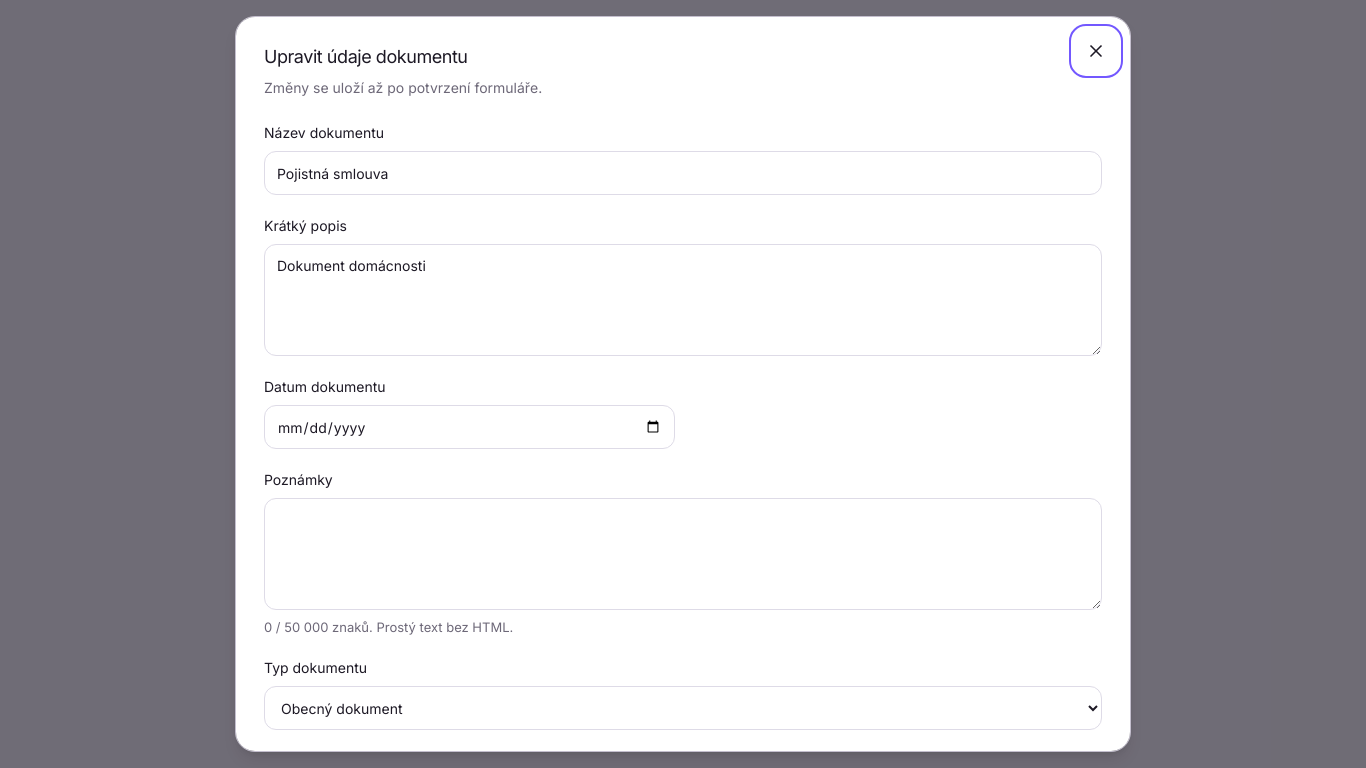
Test: documents frontend › asks before closing an edit dialog with unsaved changes
Replace the text in the field labelled "Název dokumentu" with "Změněný název": (683, 173) x1=264 y1=151 x2=1102 y2=195
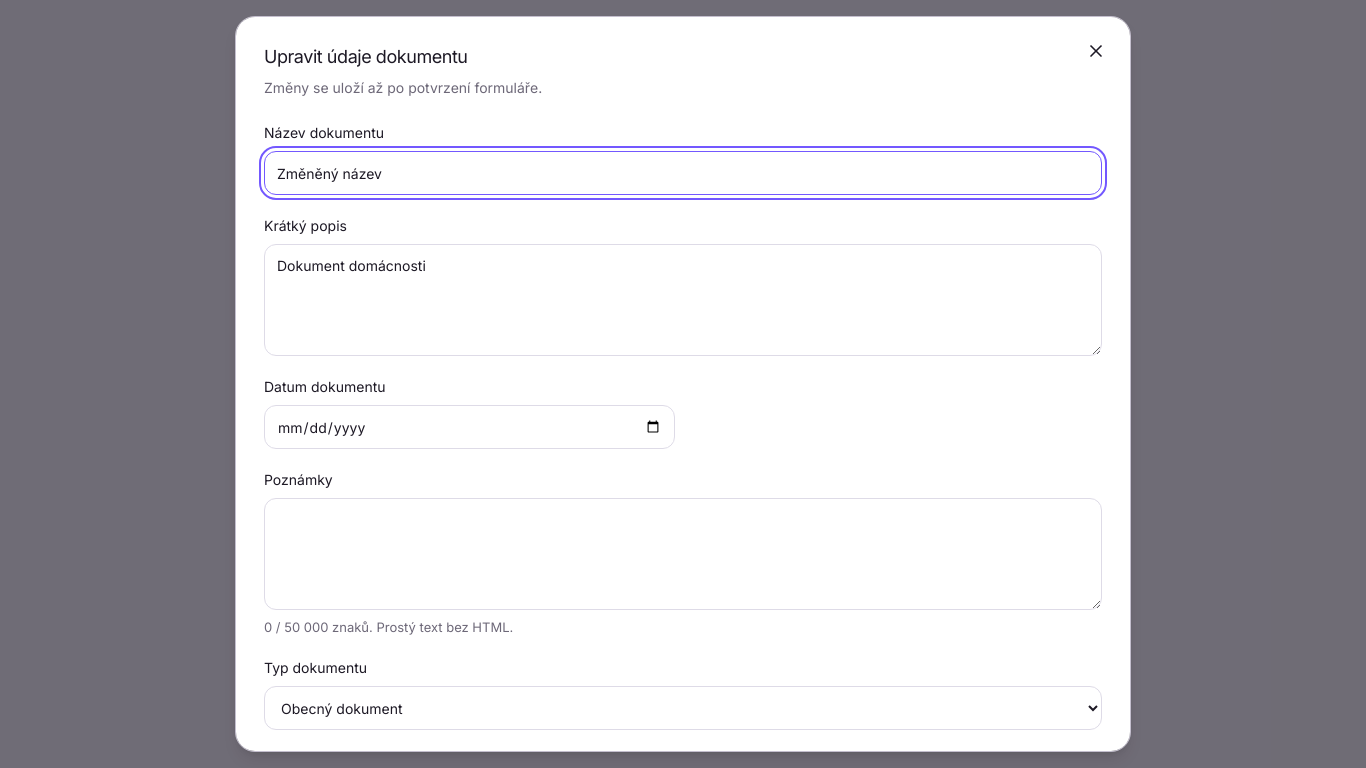
Click the button named "Zavřít dialog": (1096, 51) x1=1074 y1=29 x2=1118 y2=73
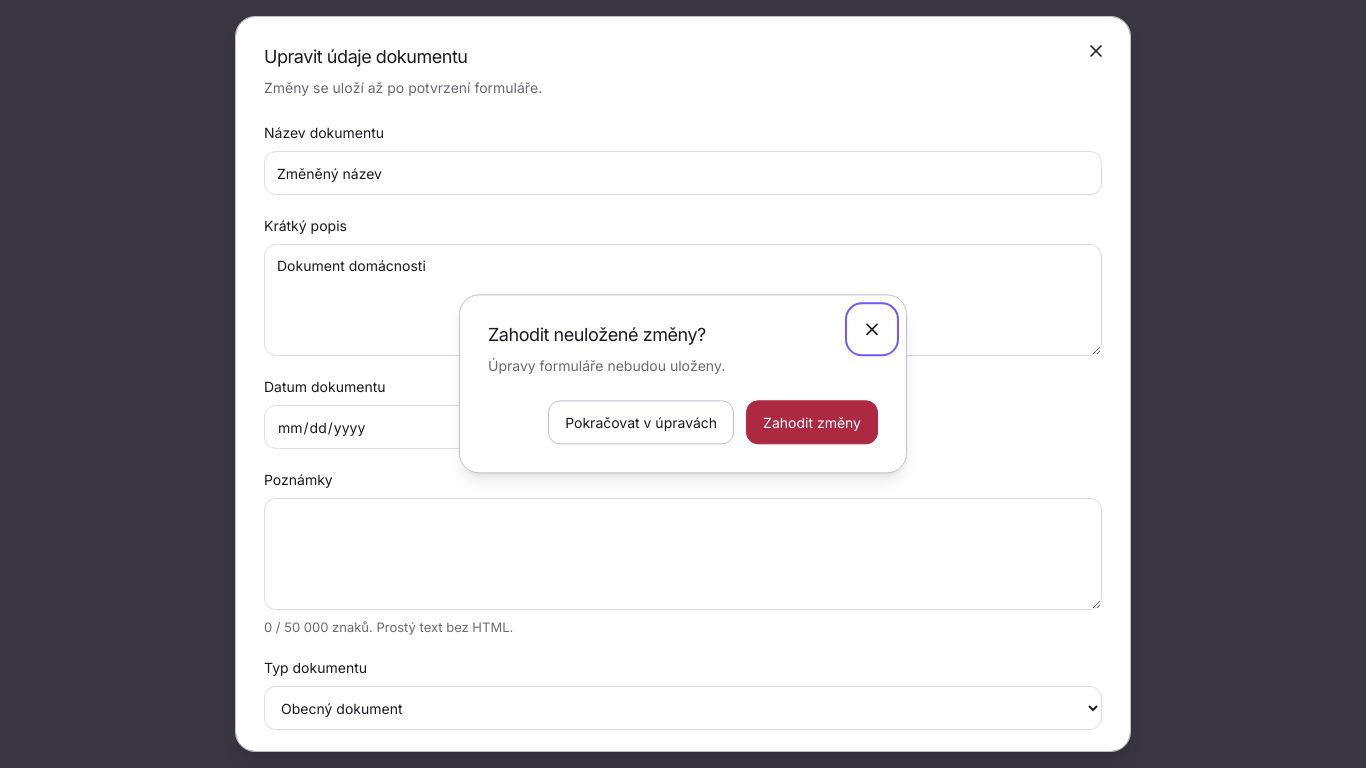
Result: the dialog "Zahodit neuložené změny?" is shown at x1=459 y1=294 x2=907 y2=474
